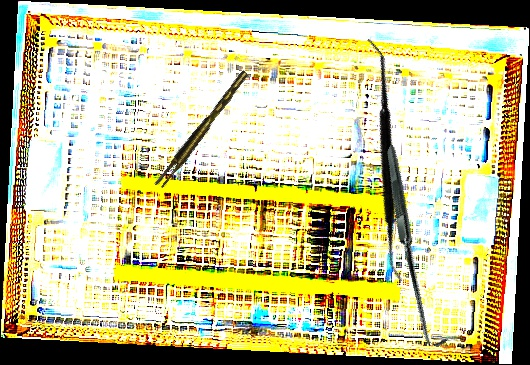Hook Surgical: (315, 144, 518, 350)
Spatula Surgical: (272, 37, 497, 284)
Tissue Forceps: (150, 70, 255, 190)
